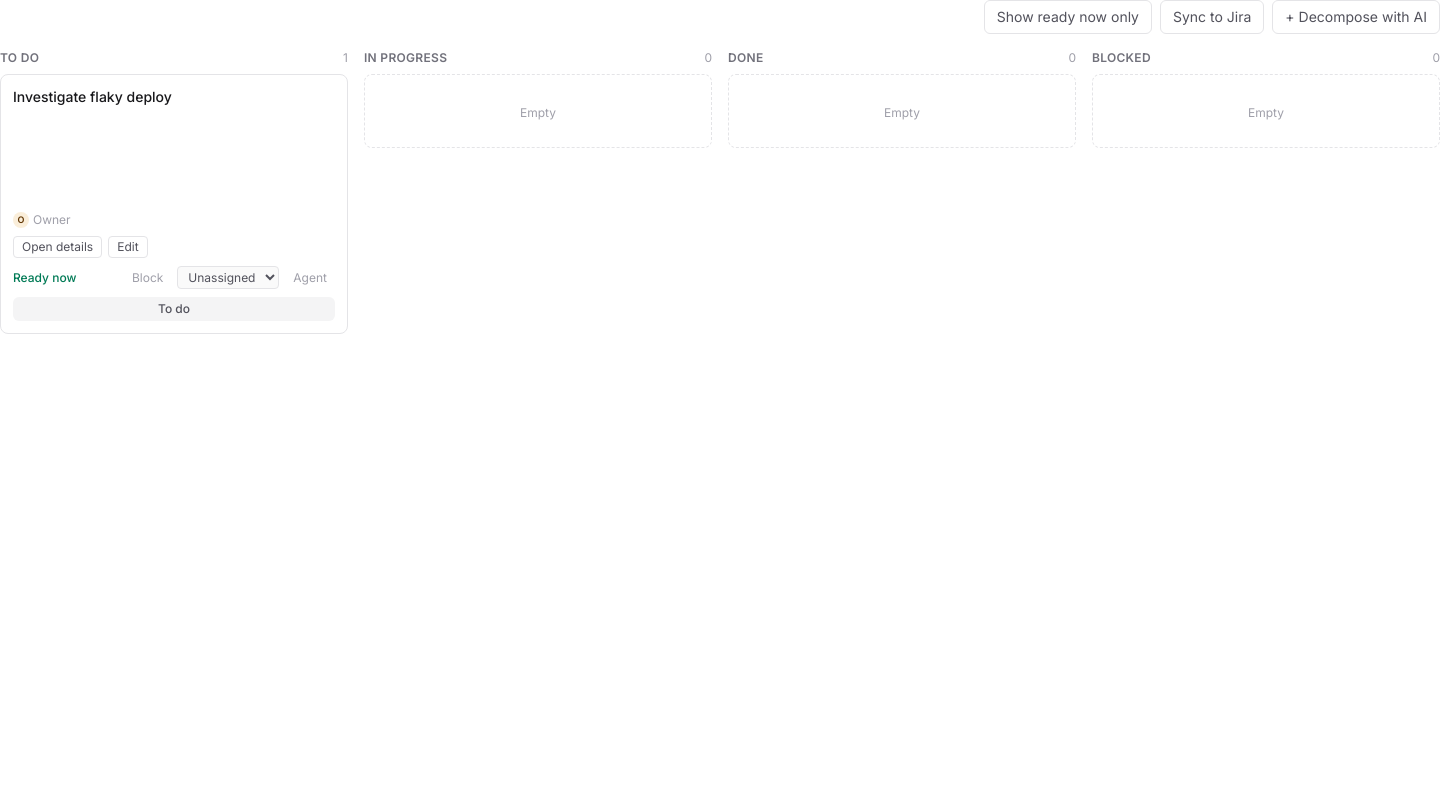
Scenario: TaskBoard task detail shortcuts › opens task modal in view mode from Open details
Click the button "Open details" at (58, 247), box 13,236 -> 102,258
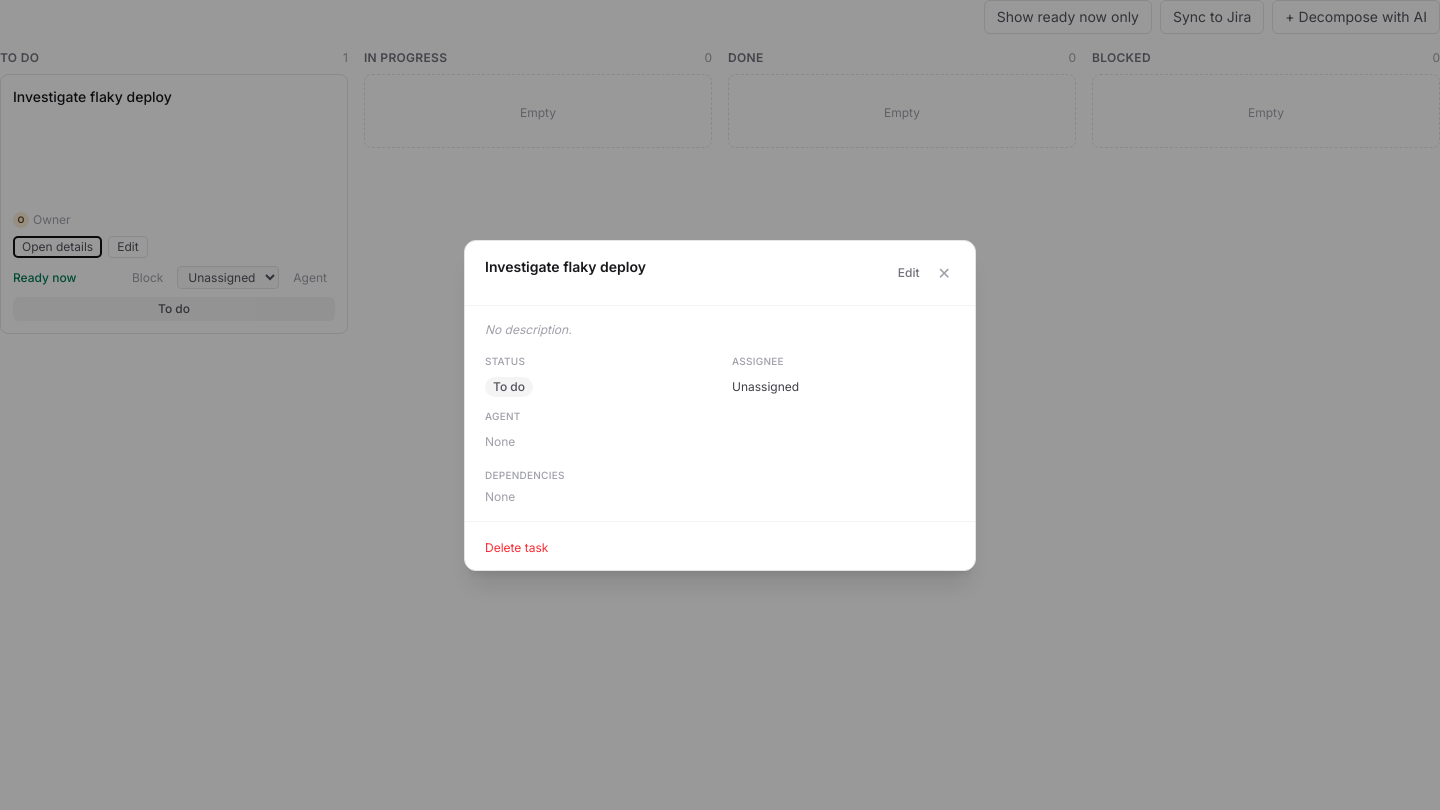
expect the button named "Close" is shown: met, box 934,256 -> 955,288
